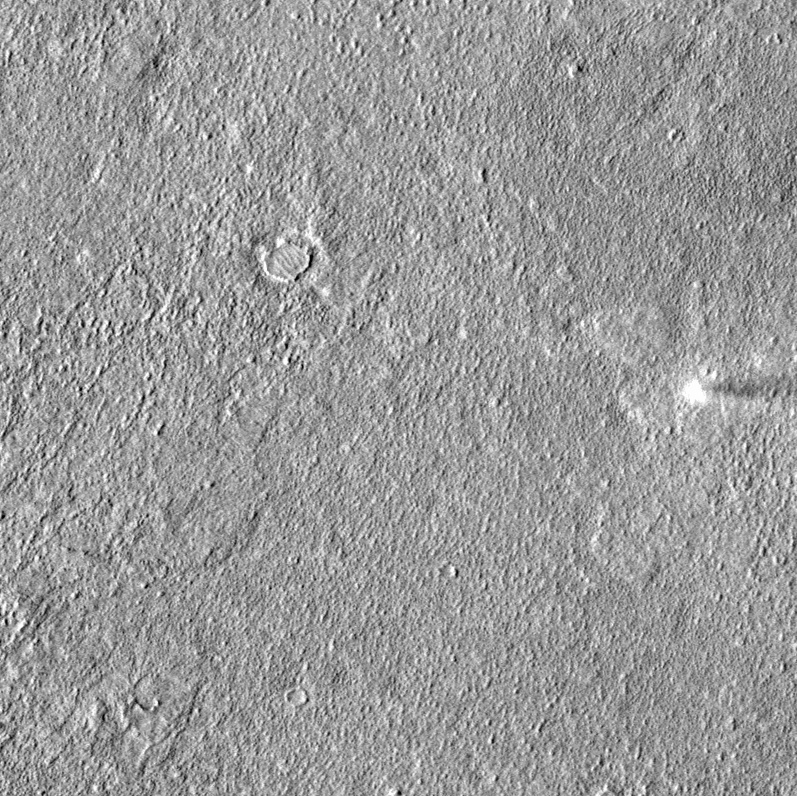dust_devil: (679, 372, 796, 407)
